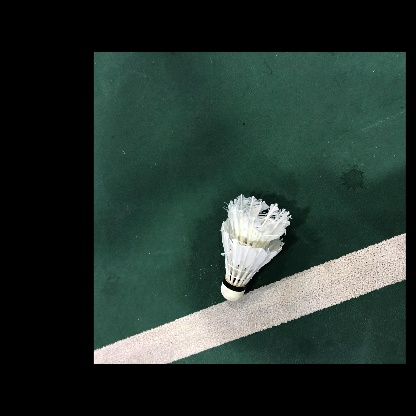ball_single: (221, 195, 291, 301)
